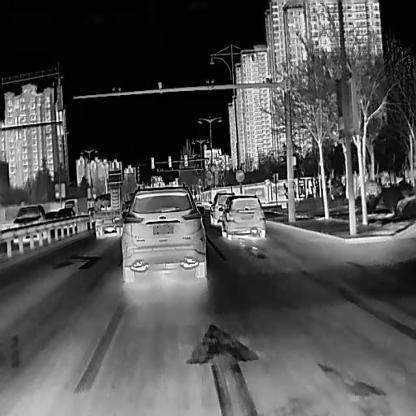car: (120, 181, 206, 282), (217, 192, 265, 241), (93, 185, 122, 237), (11, 203, 45, 241), (208, 190, 235, 225), (54, 206, 75, 231), (63, 195, 87, 216)
